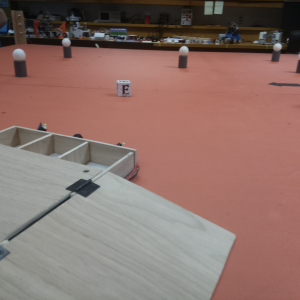blockE: (117, 80, 132, 99)
corner: (12, 11, 28, 45)
obstacle: (11, 50, 31, 79), (176, 46, 190, 70), (62, 39, 74, 59), (271, 44, 282, 63), (294, 51, 300, 76)
side: (1, 121, 143, 178)
slope: (1, 171, 239, 299)
start: (270, 78, 300, 89)
